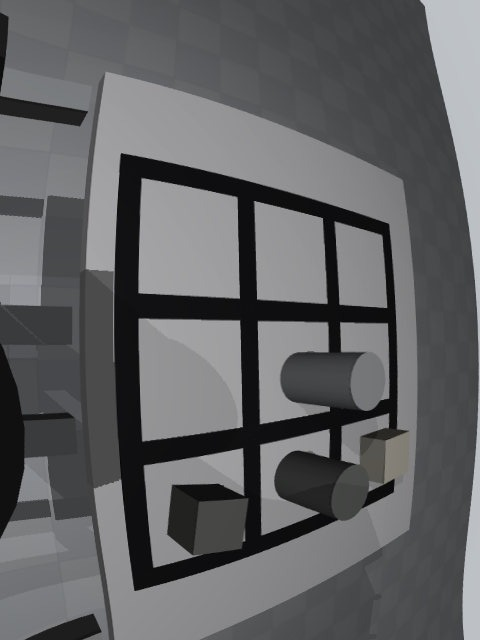can: (281, 352, 386, 411)
cube: (167, 484, 248, 555)
cylinder: (274, 451, 369, 521)
foam: (359, 428, 410, 484)
